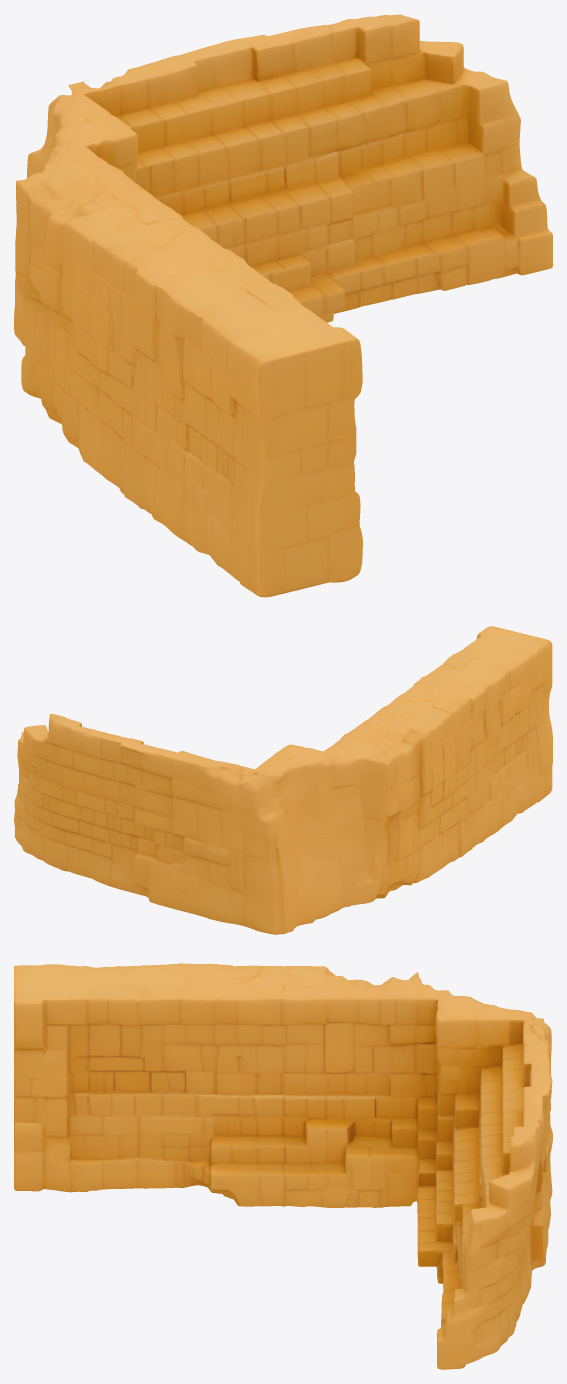
The model's file is Quarry.fbx.
The picture shows the model from 3 angles, top to bottom: view 1: azimuth 30°, elevation 25°; view 2: azimuth 150°, elevation 25°; view 3: azimuth 270°, elevation 25°; orthographic projection. The views are drawn at different scales.
Visible parts, largest first — view 1: model; view 2: model; view 3: model.
Part boxes in pixels (box(x1,y1,x2,y2)): model: box(14, 14, 552, 597); model: box(14, 626, 552, 934); model: box(14, 963, 552, 1369).
Size of the model in its own units: 181 by 75.17 by 189.
